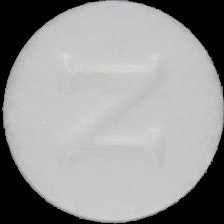54868-1538: (0, 0, 224, 224)
